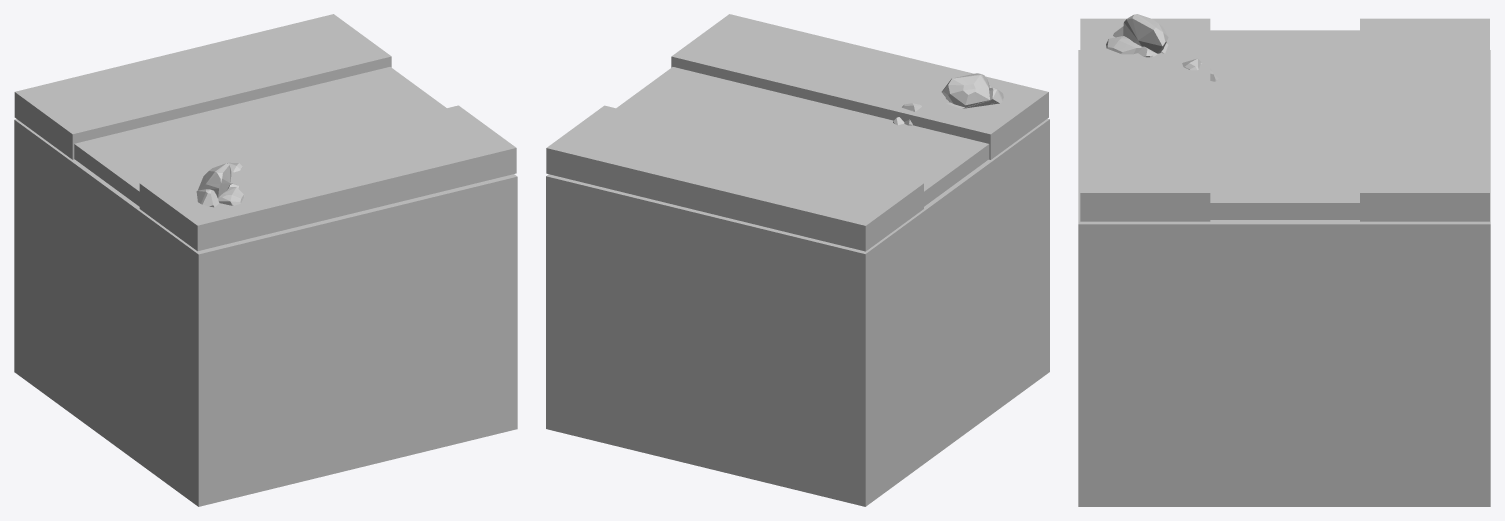
3 views of the same model, side by side, from view 1: azimuth 30°, elevation 25°; view 2: azimuth 150°, elevation 25°; view 3: azimuth 270°, elevation 25° (orthographic). The views are drawn at different scales.
Parts seen in each view (by area): view 1: 立方体, 立方体_2, 立方体_1, 立方体_3, huitugou_2134_697_2; view 2: 立方体, 立方体_1, 立方体_2, 立方体_3, huitugou_2134_697_2; view 3: 立方体, 立方体_3, 立方体_1, 立方体_2, huitugou_2134_697_2.
Boxes of the visible parts, box(x1,y1,x2,y2) form: 立方体: box(14, 119, 517, 506); 立方体_2: box(139, 105, 516, 251); 立方体_1: box(14, 14, 391, 159); 立方体_3: box(74, 67, 446, 206); huitugou_2134_697_2: box(196, 163, 244, 207); 立方体: box(546, 118, 1049, 506); 立方体_1: box(546, 105, 923, 251); 立方体_2: box(671, 14, 1048, 159); 立方体_3: box(616, 67, 989, 206); huitugou_2134_697_2: box(941, 73, 1003, 108); 立方体: box(1078, 50, 1490, 506); 立方体_3: box(1210, 30, 1359, 219); 立方体_1: box(1360, 18, 1489, 221); 立方体_2: box(1080, 18, 1210, 221); huitugou_2134_697_2: box(1106, 14, 1168, 57).
Size of the model in its own units: 200 by 183 by 200.
Materials: 4 (1 with a texture image).
